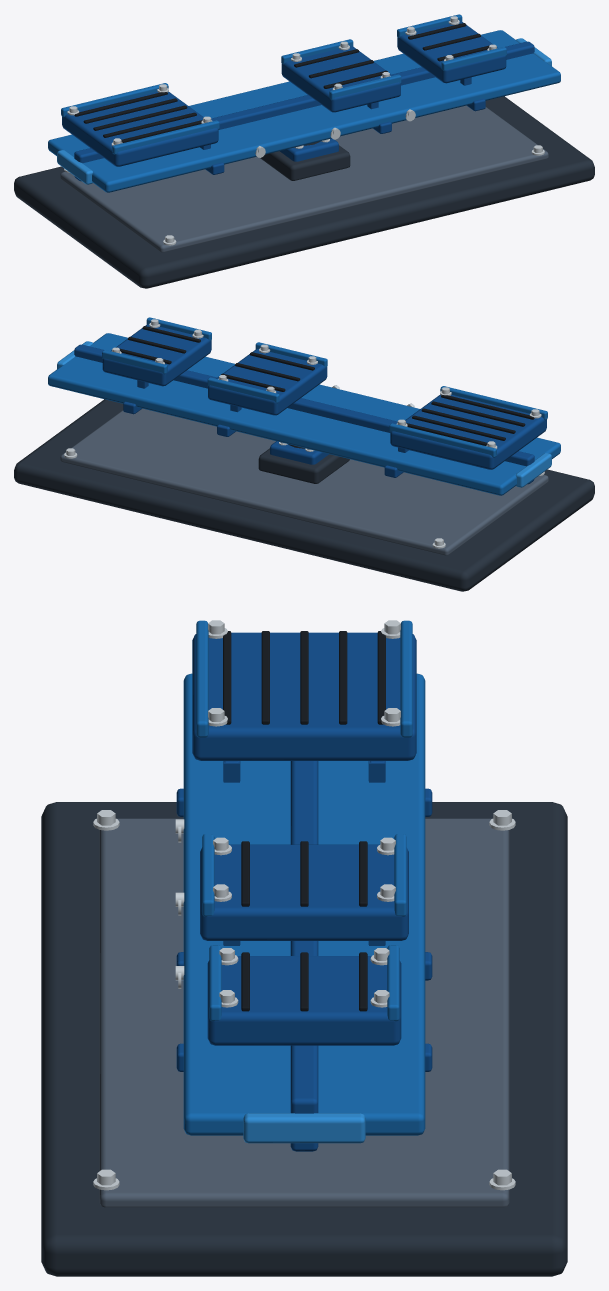
File: asset.glb
The picture shows the model from 3 angles, top to bottom: view 1: azimuth 30°, elevation 25°; view 2: azimuth 150°, elevation 25°; view 3: azimuth 270°, elevation 25°; orthographic projection. The views are drawn at different scales.
Parts seen in each view (by area): view 1: Upper_Base_Deck, Main_Weighted_Base, I_Beam_Flange_Left, Left_Platform_Frame, Right_Left_Platform_Frame, I_Beam_Flange_Right, Right_Right_Platform_Frame, I_Beam_Web, Pivot_Pedestal, Left_Platform_Rail_Front, Right_Left_Platform, Pivot_Bearing_Housing (+11 smaller); view 2: Upper_Base_Deck, Main_Weighted_Base, I_Beam_Flange_Right, Left_Platform_Frame, Right_Left_Platform_Frame, I_Beam_Flange_Left, Right_Right_Platform_Frame, I_Beam_Web, Pivot_Pedestal, Left_Platform_Rail_Back, Right_Left_Platform, Pivot_Bearing_Housing (+11 smaller); view 3: Main_Weighted_Base, Upper_Base_Deck, I_Beam_Flange_Right, I_Beam_Flange_Left, Left_Platform_Frame, Right_Left_Platform_Frame, Right_Right_Platform_Frame, I_Beam_Web, I_Beam_End_Cap_2, Right_Left_Platform, Right_Right_Platform, Left_Platform_Rail_Front (+8 smaller).
Part boxes in pixels (x1,y1,x2,y2): Upper_Base_Deck: (60,105,548,252); Main_Weighted_Base: (14,96,594,288); I_Beam_Flange_Left: (83,53,560,192); Left_Platform_Frame: (62,91,218,166); Right_Left_Platform_Frame: (281,46,400,112); I_Beam_Flange_Right: (48,30,518,156); Right_Right_Platform_Frame: (397,21,506,83); I_Beam_Web: (74,41,534,181); Pivot_Pedestal: (260,145,350,180); Left_Platform_Rail_Front: (112,120,219,154); Right_Left_Platform: (294,49,387,88); Pivot_Bearing_Housing: (280,138,338,161); Upper_Base_Deck: (60,408,548,555); Main_Weighted_Base: (14,399,594,591); I_Beam_Flange_Right: (48,356,525,495); Left_Platform_Frame: (390,394,546,469); Right_Left_Platform_Frame: (208,349,327,415); I_Beam_Flange_Left: (90,333,560,459); Right_Right_Platform_Frame: (102,324,211,386); I_Beam_Web: (74,344,534,484); Pivot_Pedestal: (258,448,349,483); Left_Platform_Rail_Back: (389,423,496,457); Right_Left_Platform: (221,352,314,391); Pivot_Bearing_Housing: (270,441,328,464); Main_Weighted_Base: (41,802,567,1276); Upper_Base_Deck: (99,818,509,1207); I_Beam_Flange_Right: (318,673,425,1135); I_Beam_Flange_Left: (183,673,290,1135); Left_Platform_Frame: (192,632,416,760); Right_Left_Platform_Frame: (200,844,408,940); Right_Right_Platform_Frame: (207,956,401,1045); I_Beam_Web: (290,761,318,1151); I_Beam_End_Cap_2: (243,1113,365,1143); Right_Left_Platform: (241,841,367,906); Right_Right_Platform: (241,952,367,1011); Left_Platform_Rail_Front: (196,620,208,737).
Bounding box in the file's own units: 6.96 × 1.7 × 3.4.
